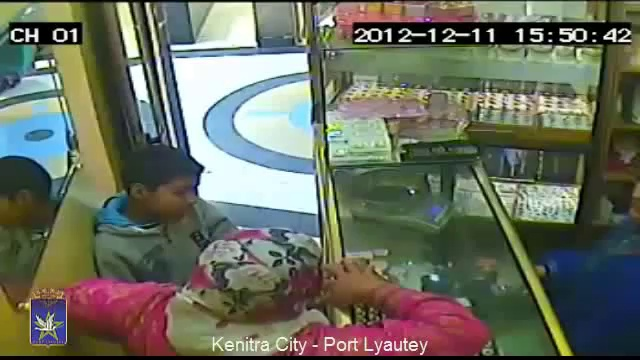face: (147, 174, 198, 214)
